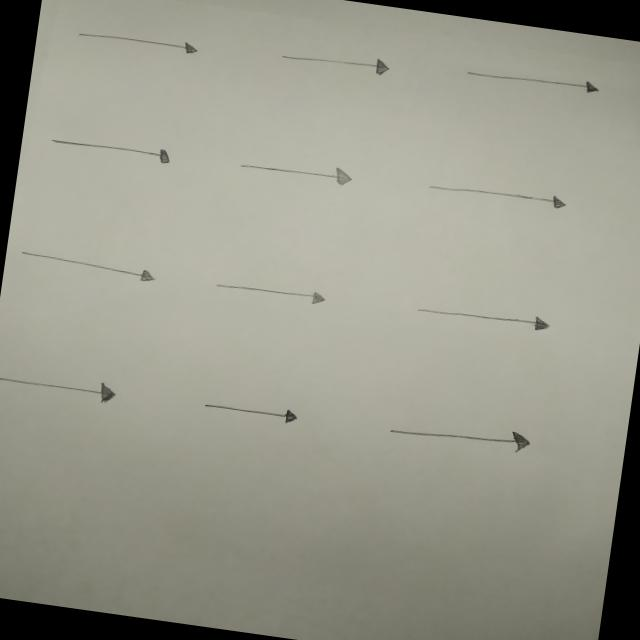arrow_line_right: (380, 411, 547, 470), (11, 240, 174, 294), (456, 56, 620, 106), (414, 170, 574, 220), (64, 13, 211, 63), (407, 296, 560, 343), (40, 124, 186, 172), (0, 365, 135, 413), (185, 386, 314, 434), (225, 147, 357, 192), (203, 271, 339, 314), (268, 40, 402, 82)
